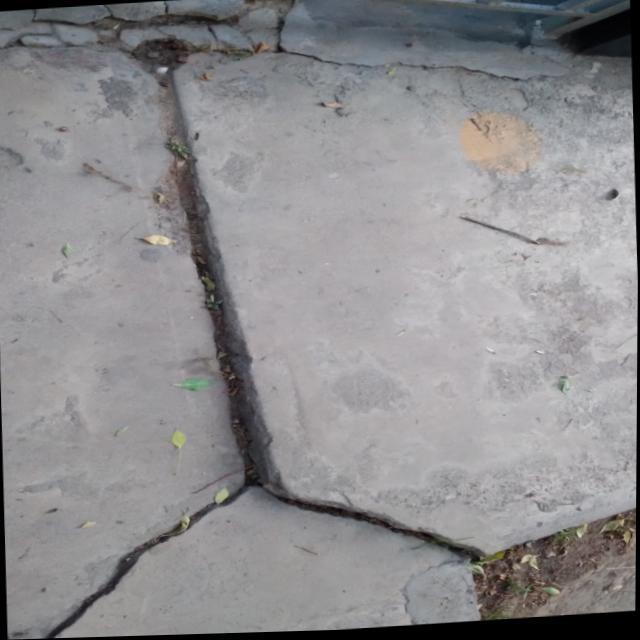bump: (222, 466, 488, 576)
hole: (136, 42, 298, 514)
